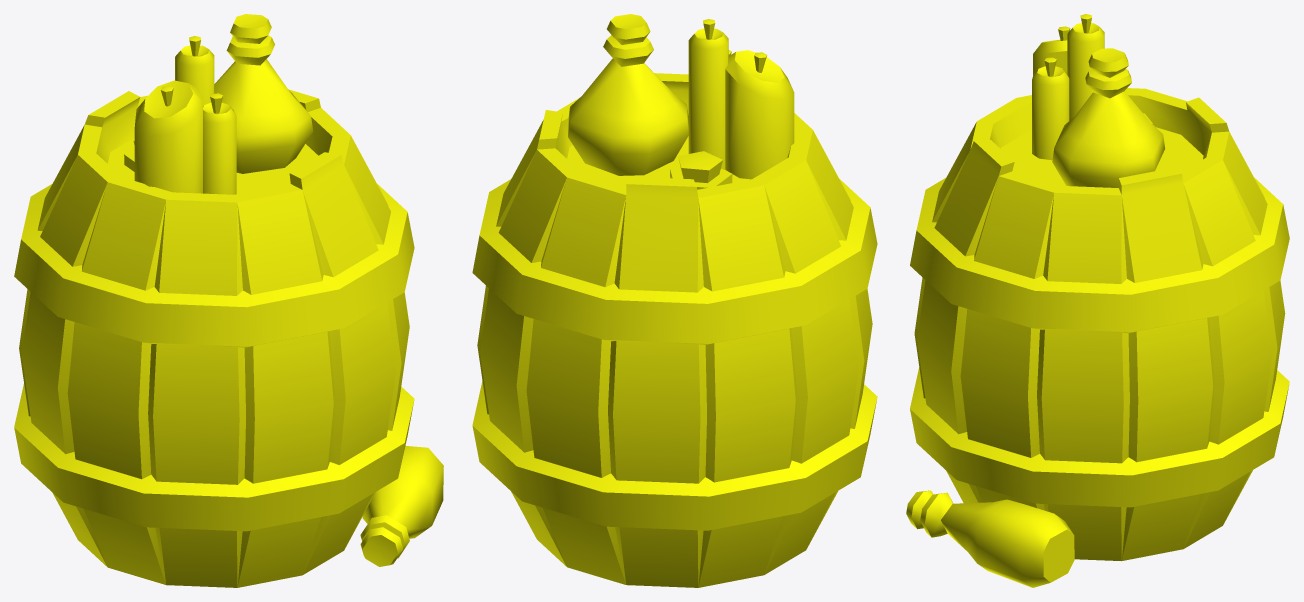
File: kaykit-barrel-large-decorated.glb
The picture shows the model from 3 angles, left to right: view 1: azimuth 30°, elevation 25°; view 2: azimuth 150°, elevation 25°; view 3: azimuth 270°, elevation 25°; orthographic projection. The views are drawn at different scales.
Parts seen in each view (by area): view 1: barrel_large_decorated; view 2: barrel_large_decorated; view 3: barrel_large_decorated.
Boxes of the visible parts, x1,y1,x2,y2 form: barrel_large_decorated: (14,14,443,587); barrel_large_decorated: (472,14,877,587); barrel_large_decorated: (906,14,1289,587).
Size of the model in its own units: 1.94 by 2.56 by 1.86.
